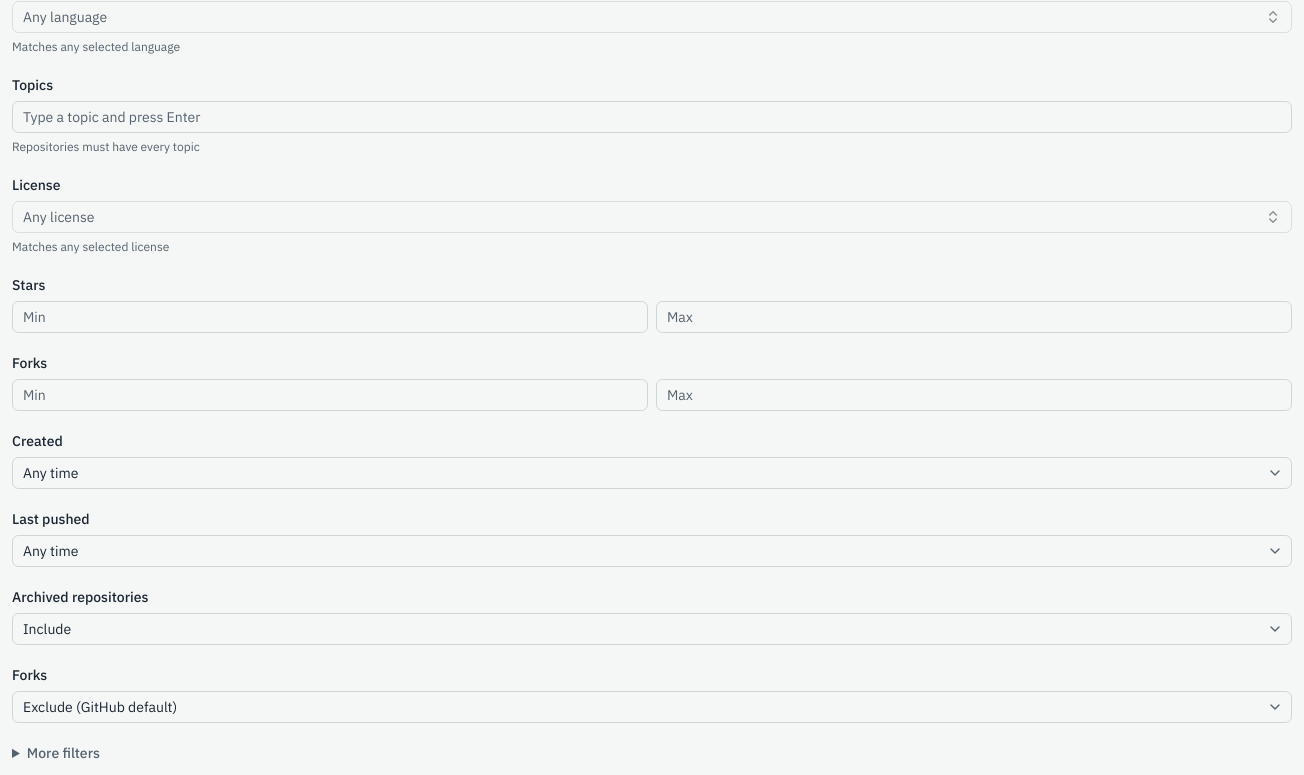
Test: Filter panel › explains invalid ranges instead of applying them
This screenshot has width=1304, height=775.
Type "900" into the number field with placeholder "Max" below "Stars" at {"x": 330, "y": 317}, box [12,301,648,333]
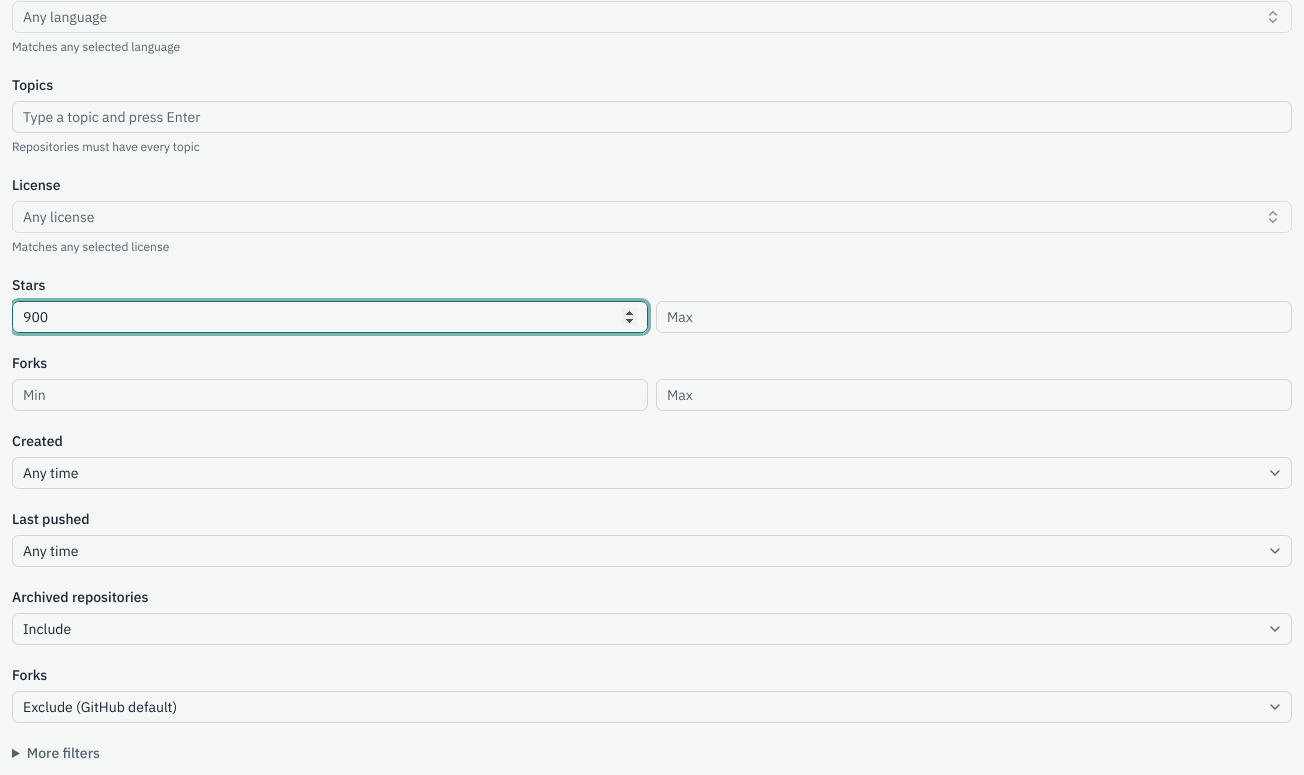
Type "10" into the 1st number field with placeholder "Max" at {"x": 974, "y": 317}, box [656,301,1292,333]
(page scrolled)
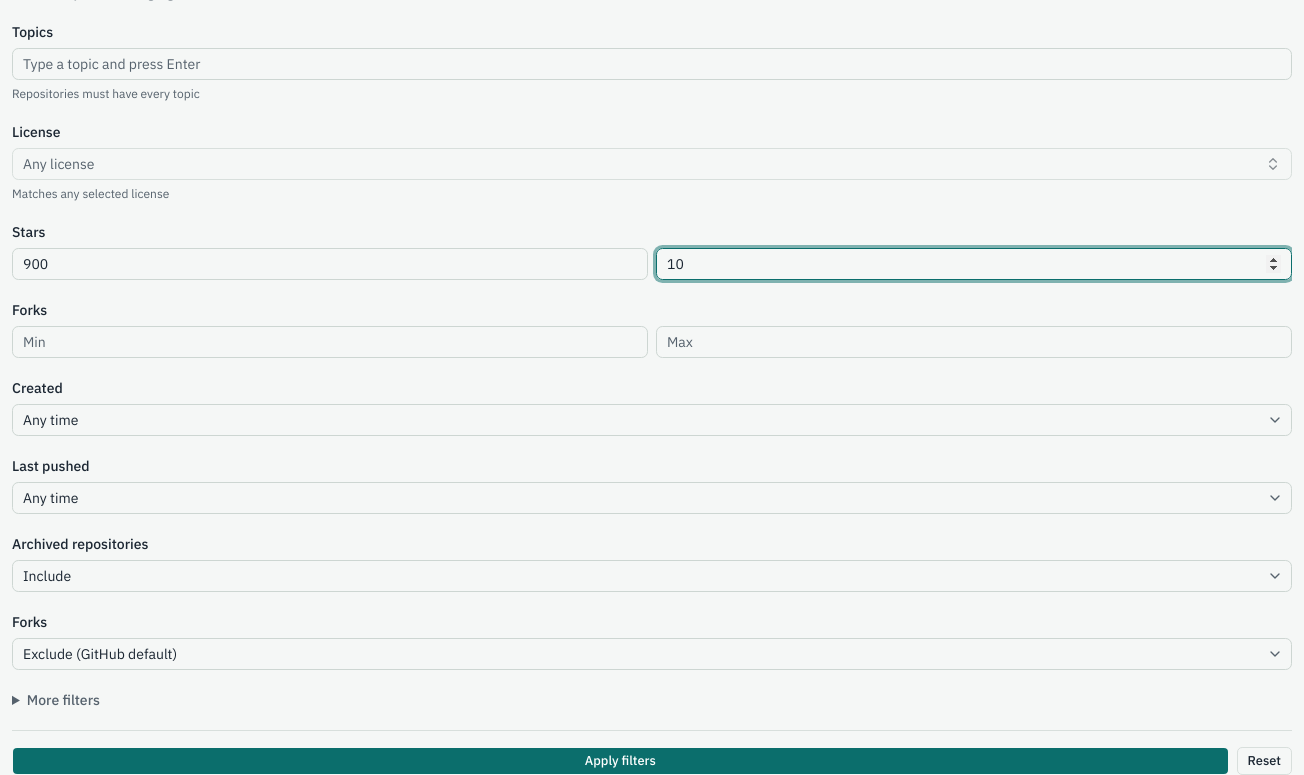
Click the button with test id "apply-filters" at {"x": 620, "y": 761}, box [12,747,1229,774]
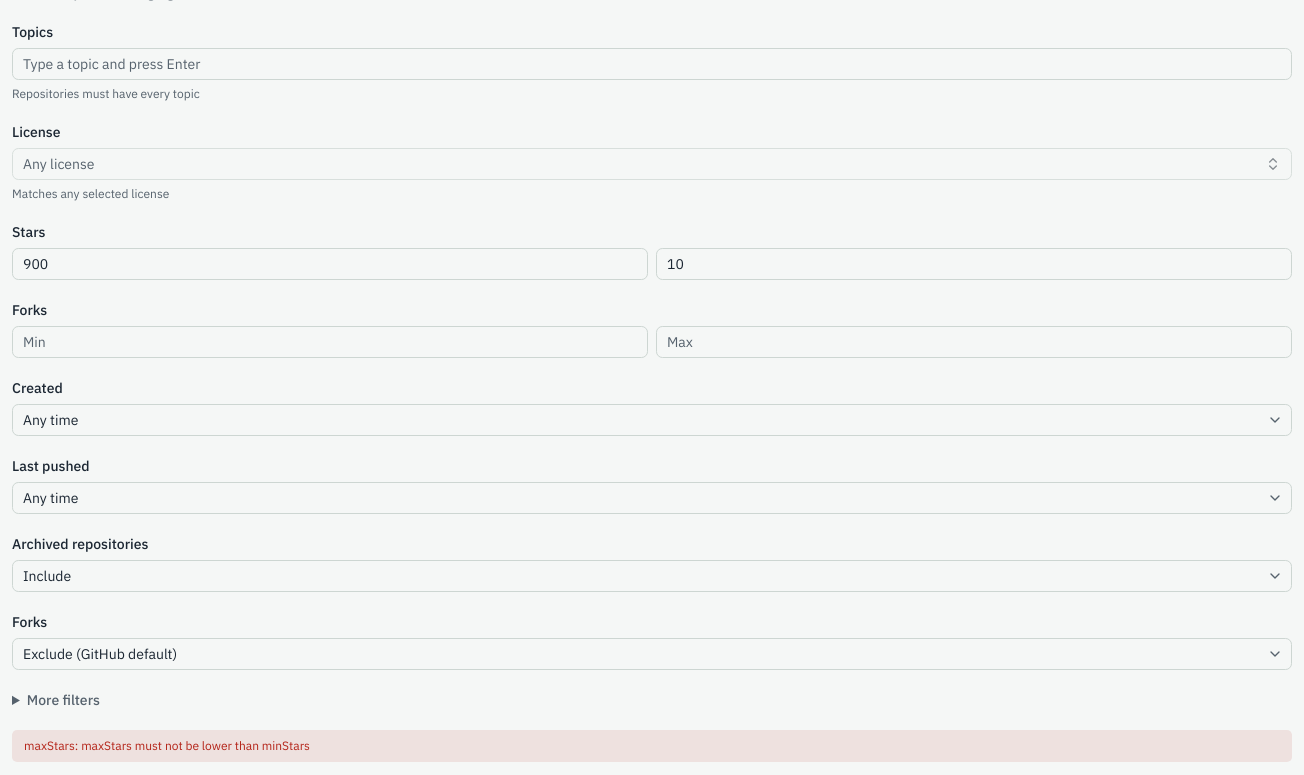
Expected: the message shows "maxStars must not be lower than minStars", [24,738,310,753]
